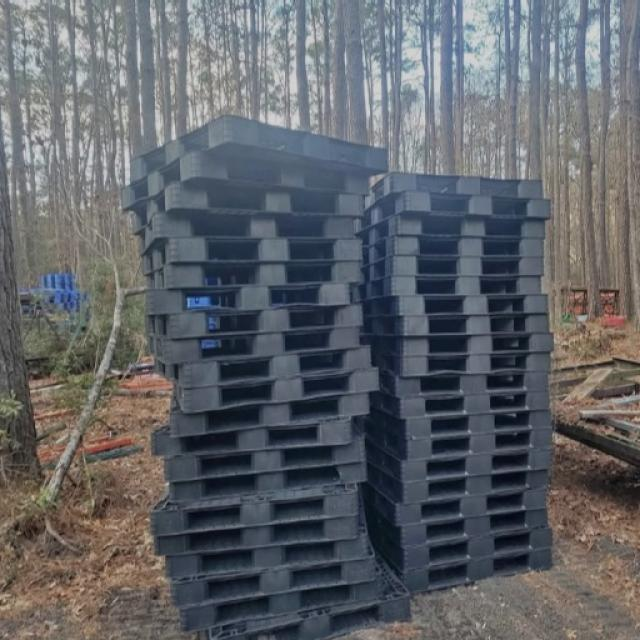non-igps: (124, 108, 393, 185), (117, 142, 376, 220), (128, 176, 370, 241), (172, 569, 386, 640), (144, 477, 366, 545), (134, 202, 358, 269), (160, 427, 373, 491), (165, 551, 381, 614), (186, 582, 418, 640), (160, 528, 372, 589), (167, 387, 376, 448), (148, 506, 366, 564), (168, 364, 386, 421), (152, 338, 376, 393), (363, 542, 557, 604), (140, 230, 368, 282), (142, 294, 368, 346), (143, 320, 364, 373), (147, 414, 360, 468), (354, 522, 558, 578), (348, 186, 554, 239), (139, 274, 357, 324), (164, 458, 373, 510), (352, 504, 553, 556), (351, 480, 551, 531), (142, 255, 369, 298), (362, 462, 554, 512), (358, 442, 558, 489), (347, 423, 558, 467), (346, 404, 557, 447), (349, 207, 550, 252), (356, 229, 549, 275), (359, 168, 547, 215), (364, 385, 555, 425), (346, 270, 547, 308), (367, 344, 556, 384), (354, 327, 558, 364), (355, 307, 555, 344), (353, 250, 547, 287), (374, 366, 554, 404), (356, 290, 552, 324)
